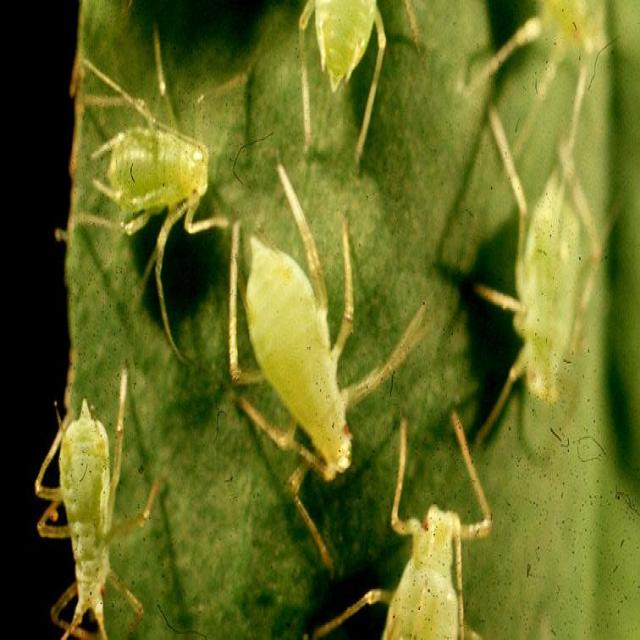Aphids: (222, 199, 411, 546), (65, 43, 249, 379), (27, 399, 169, 638)
